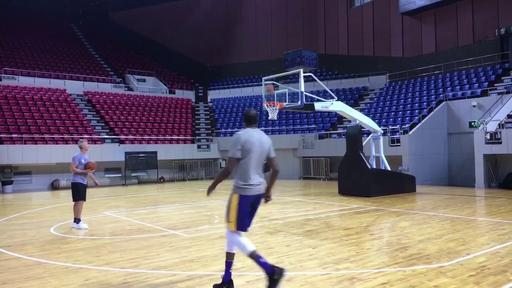ball: (84, 160, 96, 171), (264, 84, 274, 94)
human: (206, 109, 286, 288), (70, 138, 90, 230)
rim: (264, 102, 282, 120)
